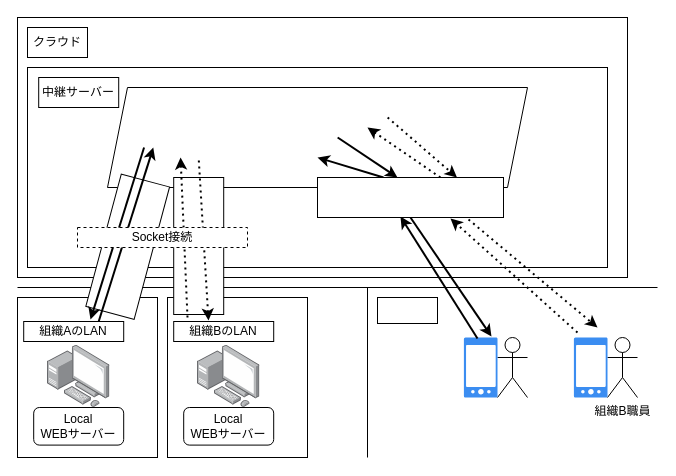
This 676x476 diagram has some shape labels left out. The centre of each missing label's shape, as x and y in pixels:
"/request 中継リクエスト受付API" belongs at point (410, 197).
"外出先" belongs at point (407, 310).
"振り分け" belongs at point (317, 137).
"組織A職員" belongs at point (512, 367).
